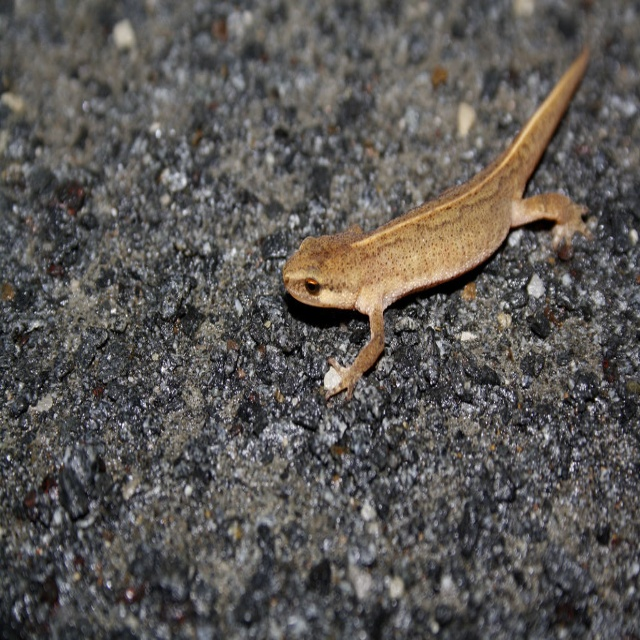Lizard: (285, 41, 602, 409)
